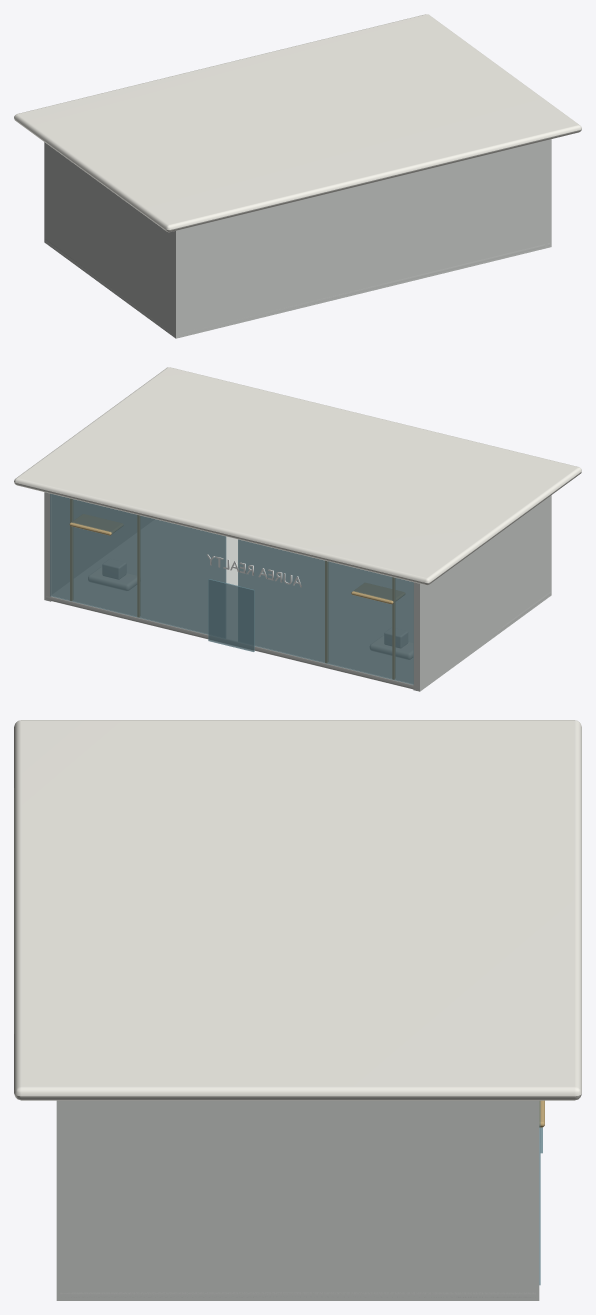
File: brokerage.glb
3 renders of one model, top to bottom at view 1: azimuth 30°, elevation 25°; view 2: azimuth 150°, elevation 25°; view 3: azimuth 270°, elevation 25°, orthographic. The views are drawn at different scales.
Visible parts, largest first — view 1: Stone overhanging canopy, Solid rear structure, Full-depth side wall, Ground slab, Full-depth side wall.001; view 2: Stone overhanging canopy, Ground slab, Floor-to-ceiling showroom glass.001, Floor-to-ceiling showroom glass, Full-depth side wall, Full-depth side wall.001, Entrance framed glazing, Bronze balcony return.001, Bronze balcony return, Agency fascia, Display property table.001, Display property table; view 3: Stone overhanging canopy, Full-depth side wall.001, Solid rear structure, Ground slab.
Boxes of the visible parts, box(x1,y1,x2,y2) form: Stone overhanging canopy: box(14, 14, 581, 232); Solid rear structure: box(172, 140, 551, 338); Full-depth side wall: box(44, 142, 182, 338); Ground slab: box(45, 239, 549, 335); Full-depth side wall.001: box(545, 139, 551, 248); Stone overhanging canopy: box(14, 367, 581, 585); Ground slab: box(46, 520, 550, 689); Floor-to-ceiling showroom glass.001: box(50, 493, 226, 638); Floor-to-ceiling showroom glass: box(238, 539, 413, 684); Full-depth side wall: box(413, 498, 547, 691); Full-depth side wall.001: box(44, 492, 154, 601); Entrance framed glazing: box(208, 579, 254, 651); Bronze balcony return.001: box(69, 514, 122, 535); Bronze balcony return: box(351, 583, 404, 604); Agency fascia: box(206, 554, 301, 587); Display property table.001: box(88, 567, 136, 590); Display property table: box(370, 636, 412, 659); Stone overhanging canopy: box(14, 720, 581, 1100); Full-depth side wall.001: box(56, 1100, 539, 1300); Solid rear structure: box(56, 1100, 70, 1300); Ground slab: box(60, 1292, 535, 1297).
Bounding box in the file's own units: 31 × 8.91 × 20.
